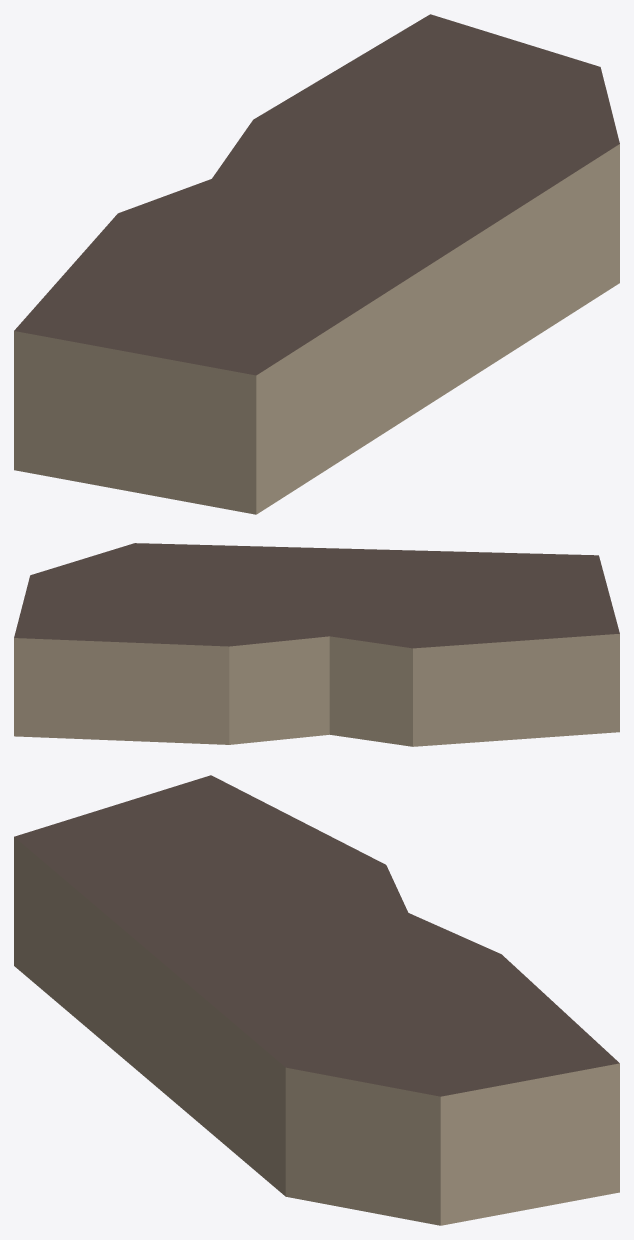
3 renders of one model, top to bottom at view 1: azimuth 30°, elevation 25°; view 2: azimuth 150°, elevation 25°; view 3: azimuth 270°, elevation 25°, orthographic. The views are drawn at different scales.
Visible parts, largest first — view 1: HP-w859424163; view 2: HP-w859424163; view 3: HP-w859424163.
Boxes of the visible parts, x1,y1,x2,y2 form: HP-w859424163: (14,14,619,514); HP-w859424163: (14,543,619,746); HP-w859424163: (14,775,619,1225).
Size of the model in its own units: 48.05 by 9 by 38.27.
